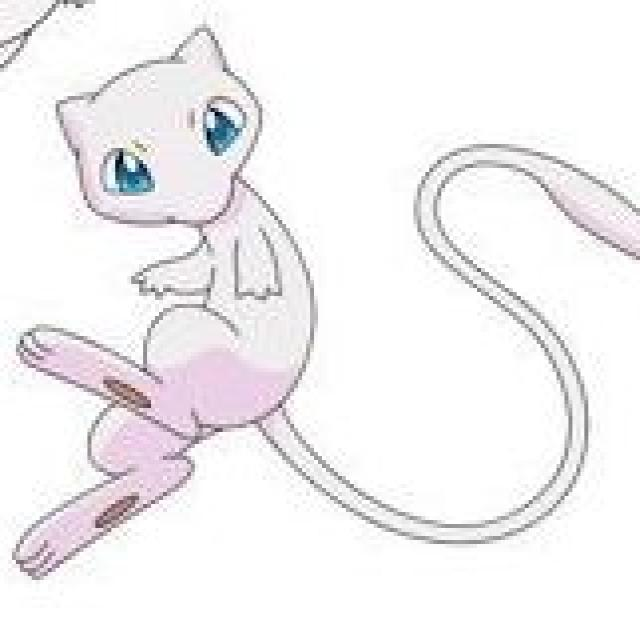Mew: (105, 74, 328, 448)
